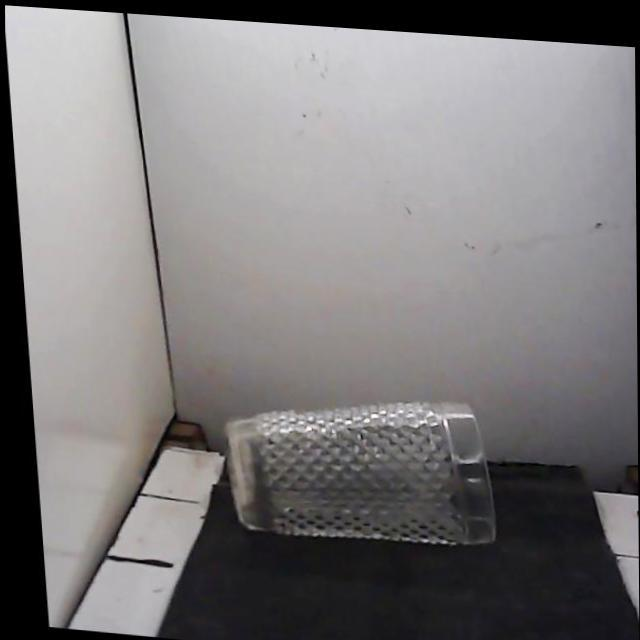vidro: (227, 402, 495, 545)
